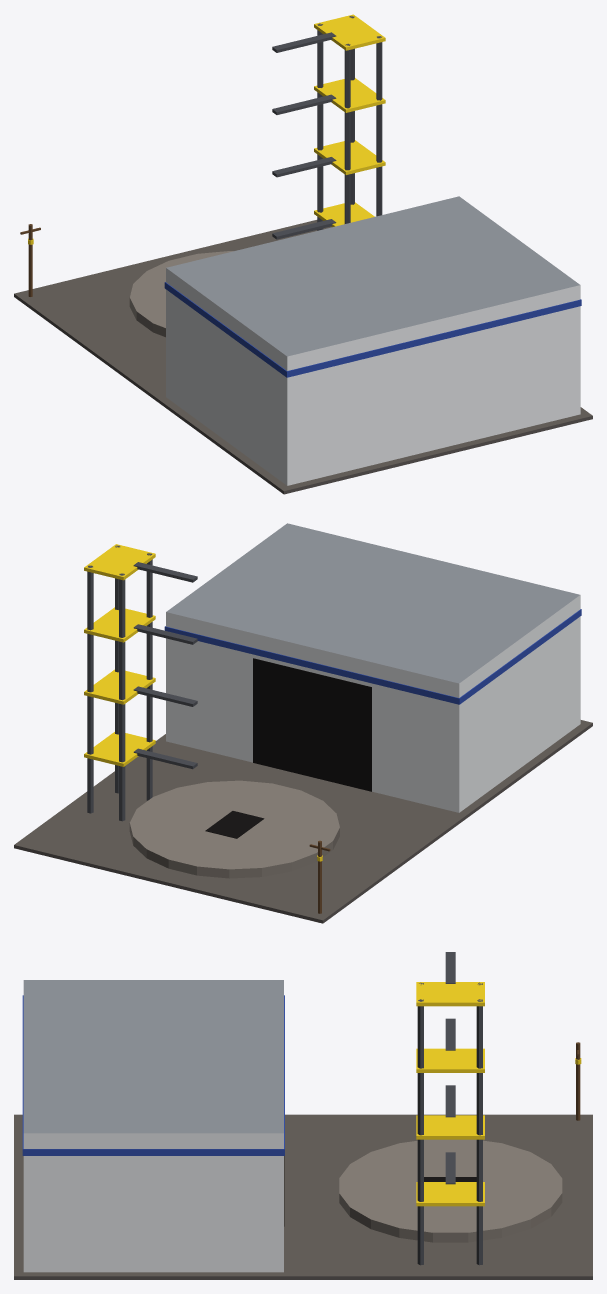
Rendered from shipyard.obj.
3 views of the same model, one above another, from view 1: azimuth 30°, elevation 25°; view 2: azimuth 150°, elevation 25°; view 3: azimuth 270°, elevation 25° (orthographic). The views are drawn at different scales.
Size of the model in its own units: 7.8 by 6.02 by 11.8.
